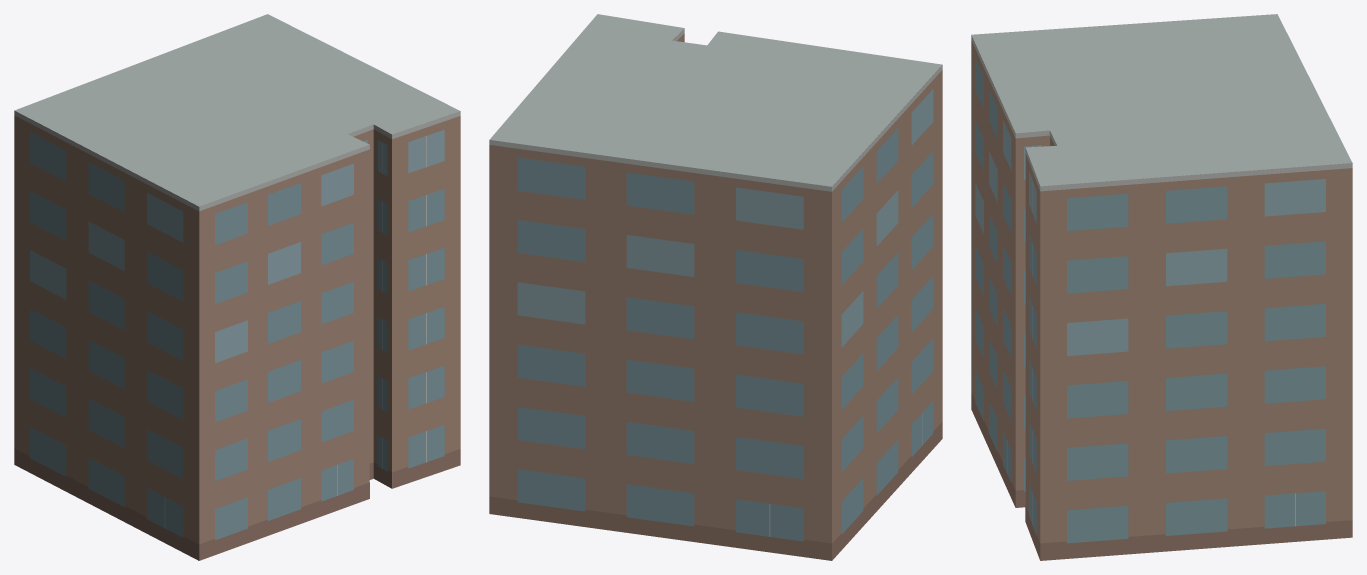
Rendered from survey-upis-32980687.glb.
3 renders of one model, left to right at view 1: azimuth 30°, elevation 25°; view 2: azimuth 150°, elevation 25°; view 3: azimuth 270°, elevation 25°, orthographic. The views are drawn at different scales.
Visible parts, largest first — view 1: survey-upis-32980687.tmp; view 2: survey-upis-32980687.tmp; view 3: survey-upis-32980687.tmp.
Part boxes in pixels (x1,y1,x2,y2): survey-upis-32980687.tmp: (14, 14, 460, 560); survey-upis-32980687.tmp: (489, 14, 942, 560); survey-upis-32980687.tmp: (971, 14, 1352, 560).
Bounding box in the file's own units: 18.08 × 18.3 × 16.9.
